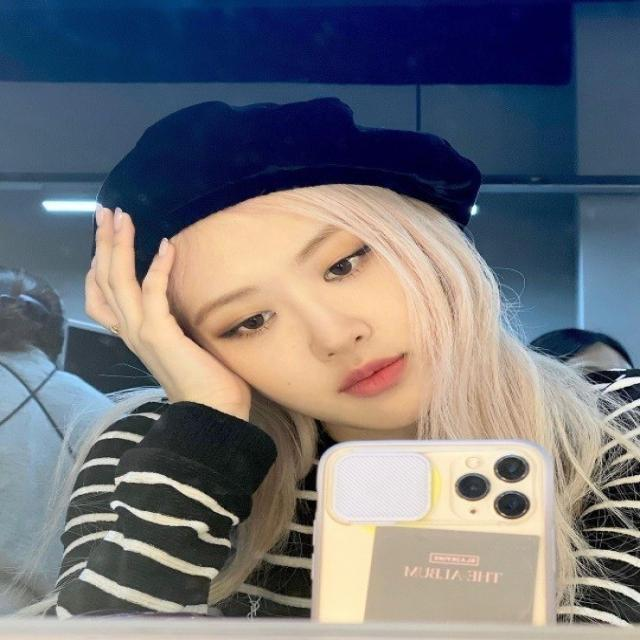phone: (312, 438, 556, 630)
